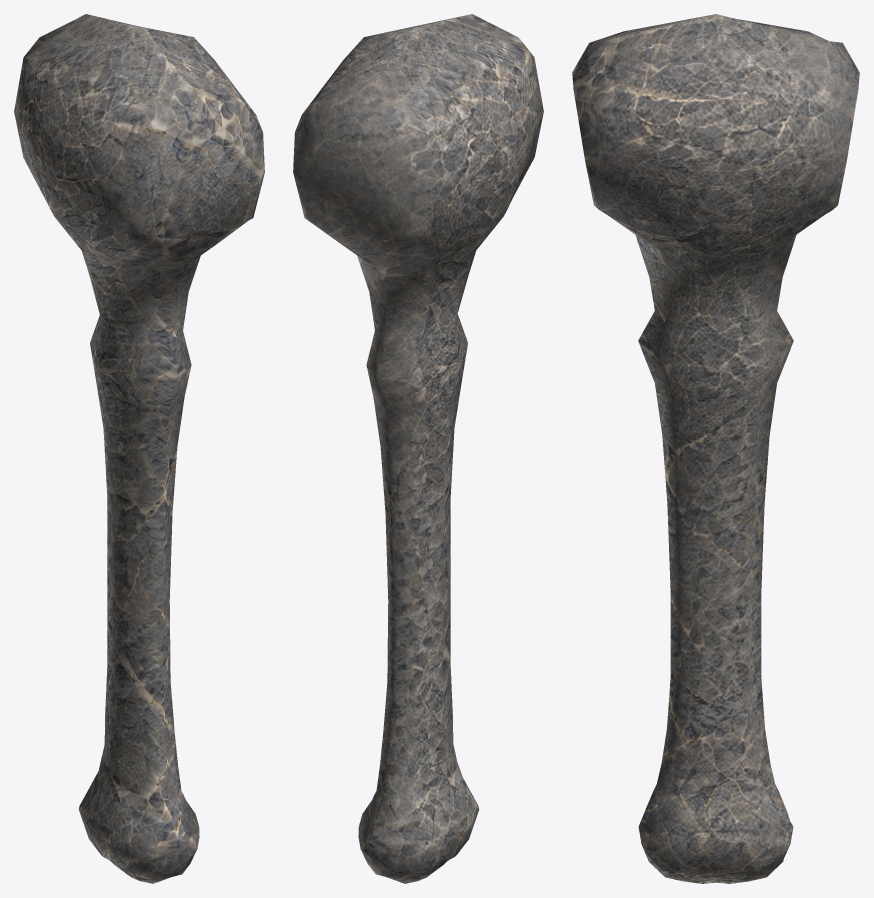
The model's file is CLUB23D.glb.
3 views of the same model, side by side, from view 1: azimuth 30°, elevation 25°; view 2: azimuth 150°, elevation 25°; view 3: azimuth 270°, elevation 25° (orthographic). The views are drawn at different scales.
Visible parts, largest first — view 1: tripo_node_bb10bc78-7a78-4451-8746-f0cb9ee9bcd8; view 2: tripo_node_bb10bc78-7a78-4451-8746-f0cb9ee9bcd8; view 3: tripo_node_bb10bc78-7a78-4451-8746-f0cb9ee9bcd8.
Part boxes in pixels (x1=…): tripo_node_bb10bc78-7a78-4451-8746-f0cb9ee9bcd8: x1=14, y1=14, x2=264, y2=883; tripo_node_bb10bc78-7a78-4451-8746-f0cb9ee9bcd8: x1=293, y1=14, x2=543, y2=883; tripo_node_bb10bc78-7a78-4451-8746-f0cb9ee9bcd8: x1=572, y1=14, x2=859, y2=883.
Size of the model in its own units: 0.2319 by 0.9995 by 0.3022.
Materials: 1 (1 with a texture image).
